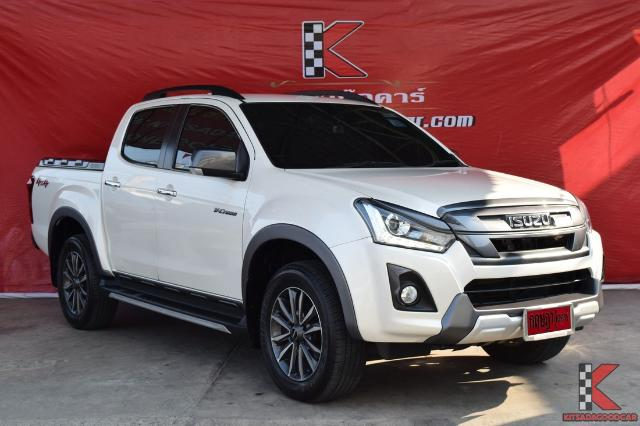pickup-truck: (28, 94, 604, 401)
